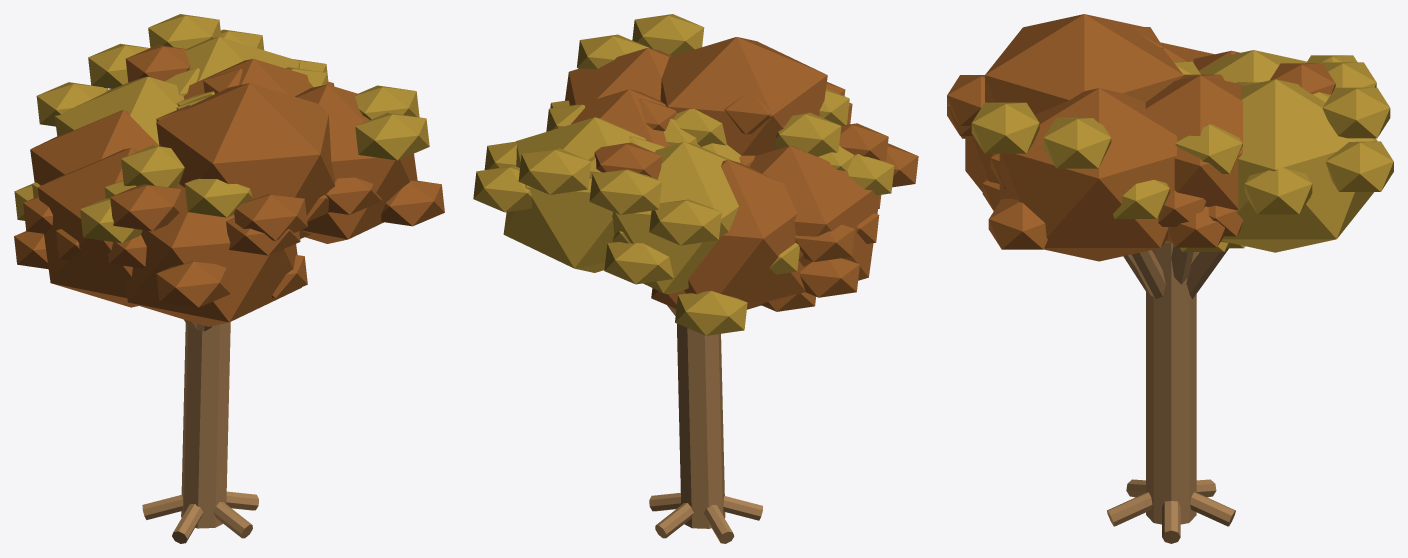
Rendered from tree_oak_autumn.glb.
The picture shows the model from 3 angles, left to right: view 1: azimuth 30°, elevation 25°; view 2: azimuth 150°, elevation 25°; view 3: azimuth 270°, elevation 25°; orthographic projection. The views are drawn at different scales.
Parts seen in each view (by area): view 1: tree_oak_autumn; view 2: tree_oak_autumn; view 3: tree_oak_autumn.
Boxes of the visible parts, x1,y1,x2,y2 form: tree_oak_autumn: (14, 14, 444, 543); tree_oak_autumn: (473, 14, 918, 543); tree_oak_autumn: (947, 14, 1393, 543).
Bounding box in the file's own units: 3.25 × 4.21 × 3.36.
